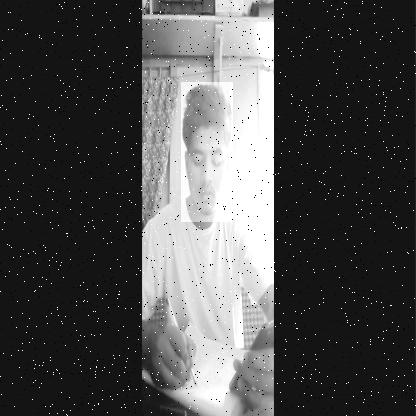Normal: (181, 82, 233, 222)
